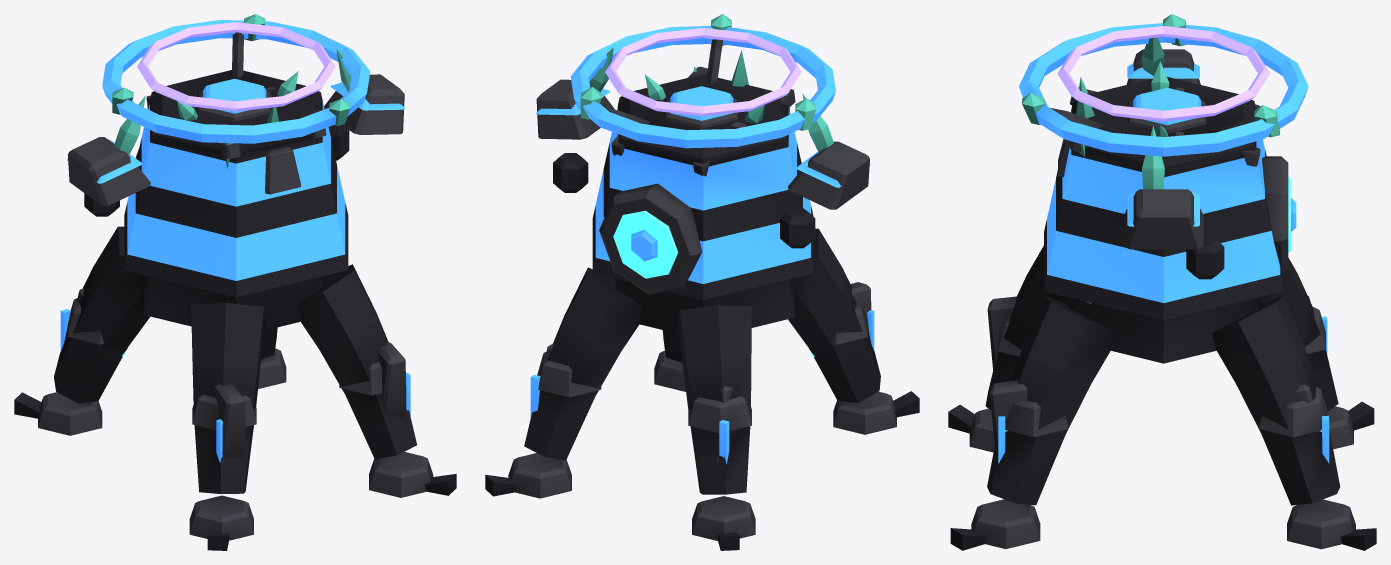
3 views of the same model, side by side, from view 1: azimuth 30°, elevation 25°; view 2: azimuth 150°, elevation 25°; view 3: azimuth 270°, elevation 25° (orthographic). The views are drawn at different scales.
Parts seen in each view (by area): view 1: body, spinRing; view 2: body, spinRing; view 3: body, spinRing.
Boxes of the visible parts, x1=… form: body: x1=14, y1=32, x2=456, y2=550; spinRing: x1=102, y1=14, x2=370, y2=143; body: x1=485, y1=39, x2=919, y2=550; spinRing: x1=570, y1=14, x2=835, y2=148; body: x1=948, y1=26, x2=1376, y2=550; spinRing: x1=1019, y1=14, x2=1308, y2=156.
Bounding box in the file's own units: 2.25 × 2.66 × 2.47.
